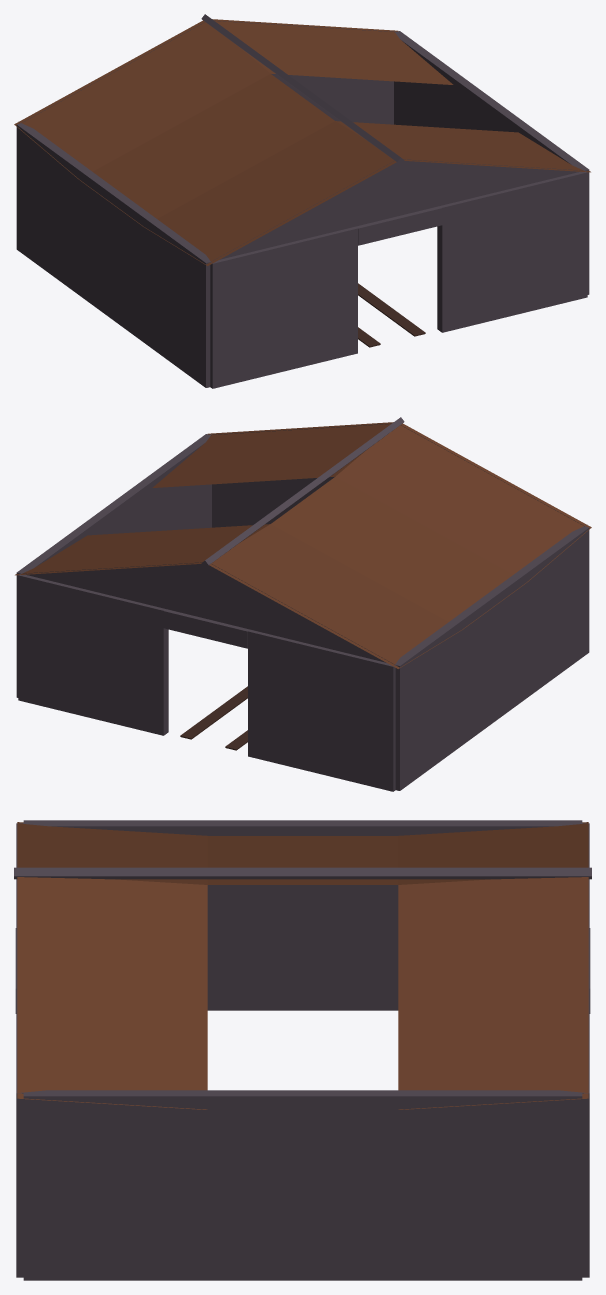
File: bld.farm-house-ruin.burned.lod2.glb
3 views of the same model, one above another, from view 1: azimuth 30°, elevation 25°; view 2: azimuth 150°, elevation 25°; view 3: azimuth 270°, elevation 25° (orthographic). The views are drawn at different scales.
Visible parts, largest first — view 1: body; view 2: body; view 3: body.
Boxes of the visible parts, left/top/right/bottom form: body: left=14, top=14, right=590, bottom=388; body: left=15, top=417, right=591, bottom=791; body: left=14, top=820, right=591, bottom=1280.
Bounding box in the file's own units: 8.2 × 3.8 × 7.24.
